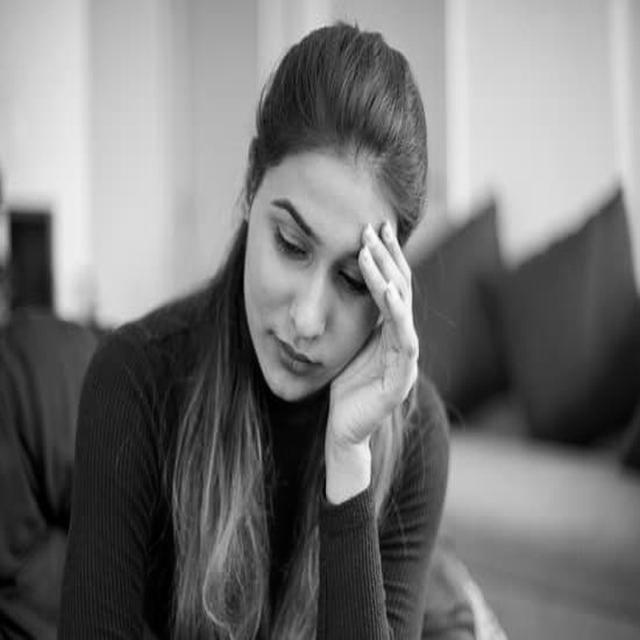Sadness: (248, 155, 382, 402)
